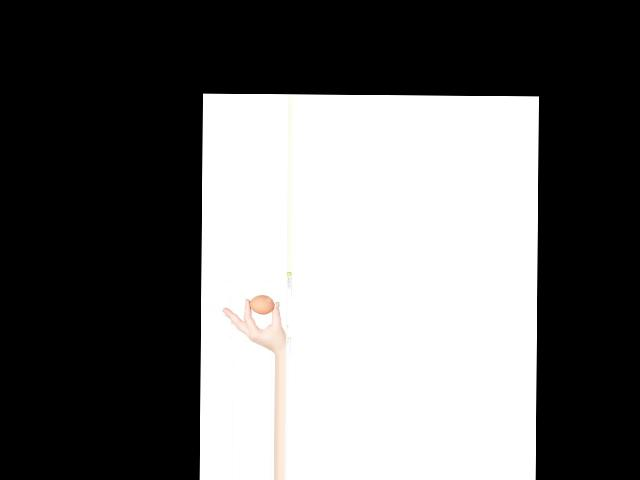egg: (249, 295, 275, 315)
